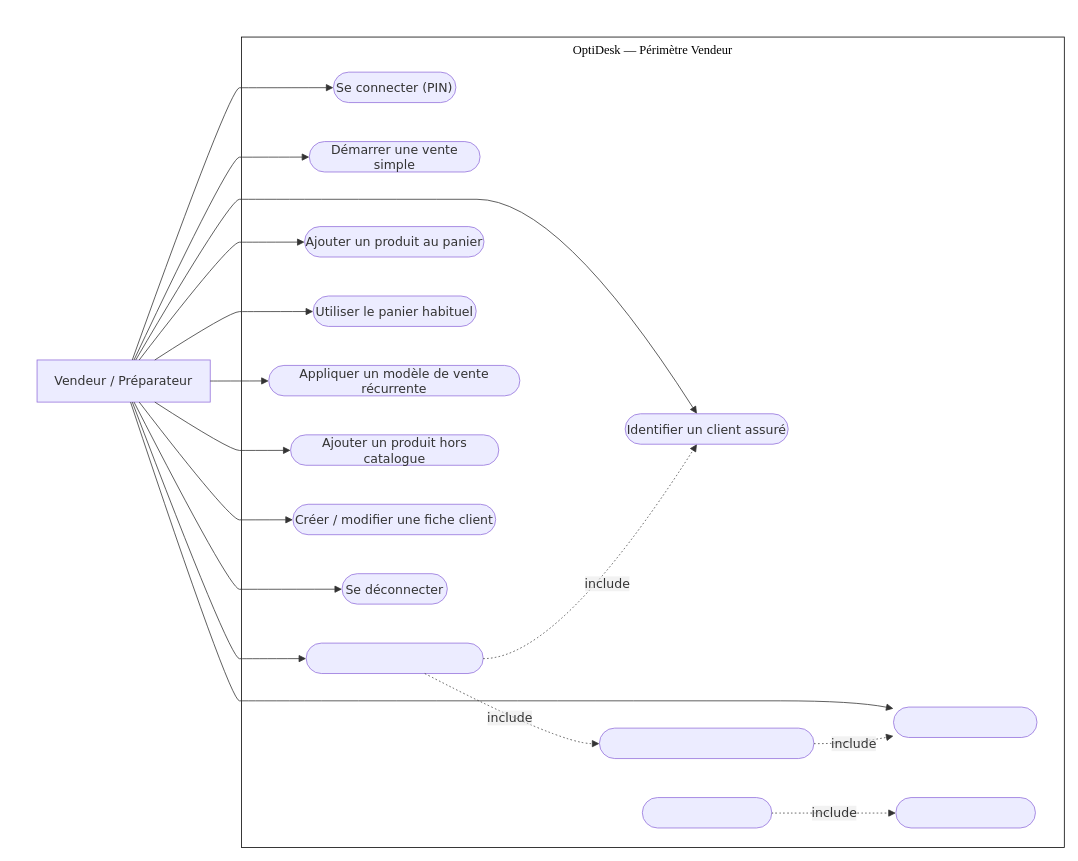
Image size: 1078x861. Some labels were removed from this diagram. The shapes that lost their labels are listed below. From the top down, each one's centre as x and y in pixels, then its label:
(394,658): Démarrer une vente assurée
(965,721): Rechercher un produit
(706,743): Vérifier la couverture assurantielle
(707,812): Enregistrer la vente
(965,812): Générer le bordereau
